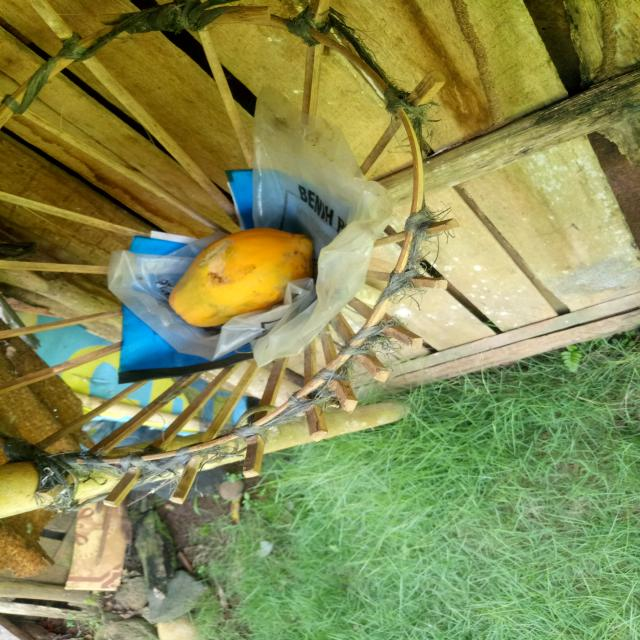Pepaya rippen: (162, 227, 310, 324)
